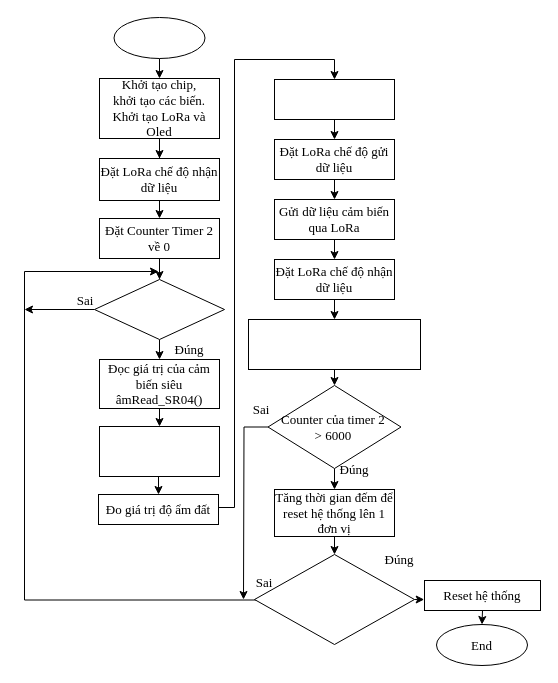
This 558x683 diagram has some shape labels left out. Each missing label, with the centre of its shape:
Begin: (x=159, y=37)
Biến cờ flag = 1: (x=159, y=309)
Hiển thị các giá trị cảm biến lên Oled: (x=334, y=99)
Thời gian đủ để reset hệ thống ( > 8000): (x=334, y=599)
Đặt counter timer 2 về 0 và đặt biến điếm thời gian reset về 0: (x=334, y=344)
Đọc giá trị cảm biến nhiệt độRead_Ds18b20(): (x=159, y=451)
